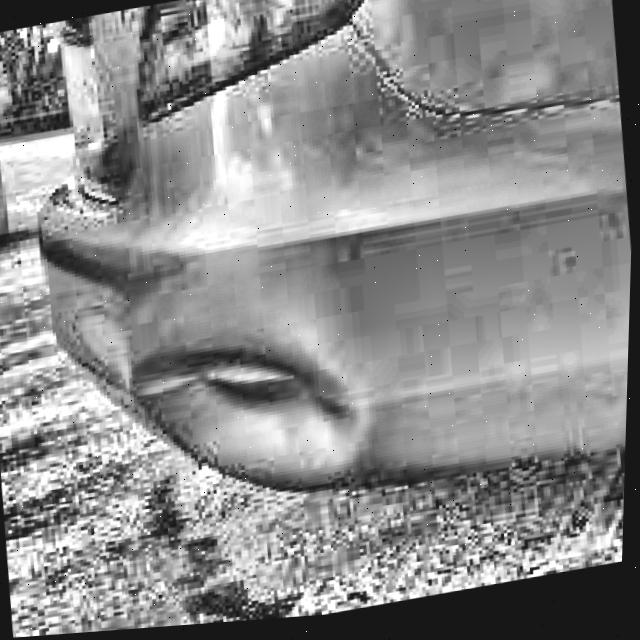bumper_dent: (125, 303, 373, 518)
